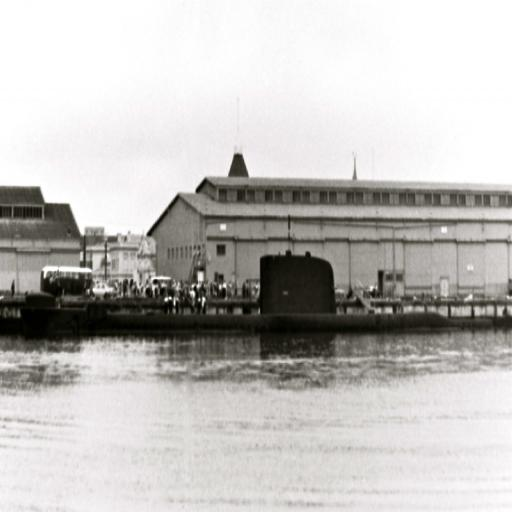submarine: (3, 256, 494, 330)
